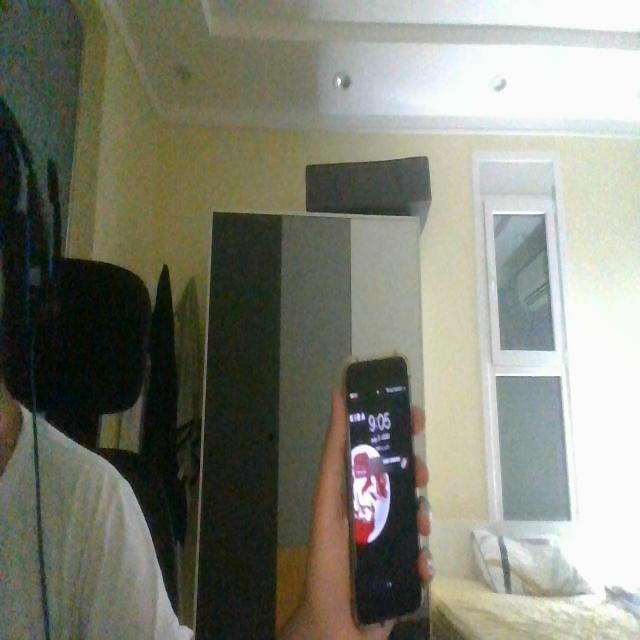Phone: (341, 351, 428, 635)
